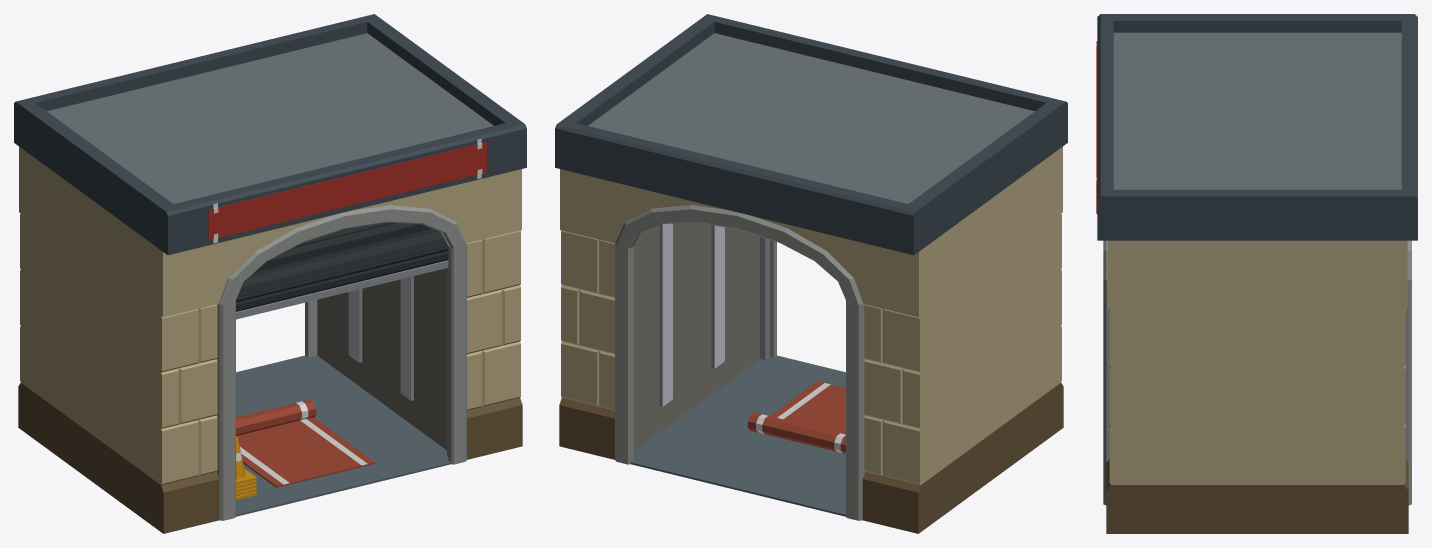
Rendered from players-tunnel-4a210b.glb.
The picture shows the model from 3 angles, left to right: view 1: azimuth 30°, elevation 25°; view 2: azimuth 150°, elevation 25°; view 3: azimuth 270°, elevation 25°; orthographic projection. The views are drawn at different scales.
Visible parts, largest first — view 1: tunnel, banner-mesh, mat-mesh, shutter-barrel-mesh, cones-mesh; view 2: tunnel, mat-mesh; view 3: tunnel.
Boxes of the visible parts, left/top/right/bottom form: tunnel: left=14, top=14, right=526, bottom=533; banner-mesh: left=208, top=138, right=486, bottom=243; mat-mesh: left=236, top=399, right=375, bottom=487; shutter-barrel-mesh: left=237, top=229, right=447, bottom=297; cones-mesh: left=236, top=436, right=256, bottom=499; tunnel: left=555, top=14, right=1067, bottom=533; mat-mesh: left=748, top=381, right=845, bottom=453; tunnel: left=1097, top=14, right=1417, bottom=533.
Size of the model in its own units: 4 by 3.45 by 2.98.
